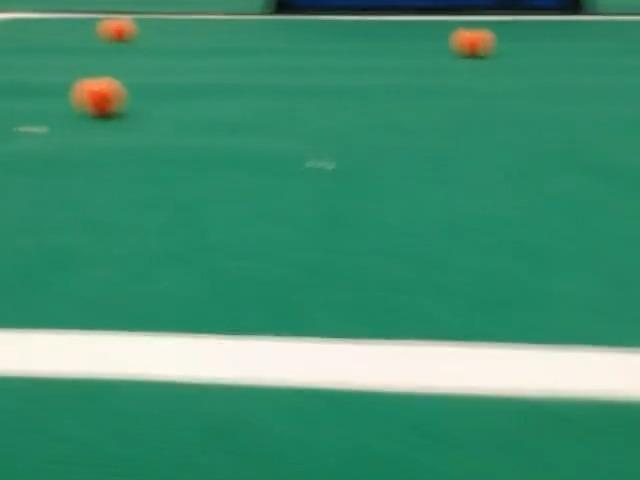Ball: (73, 77, 127, 117), (449, 28, 495, 57), (97, 18, 137, 42), (70, 79, 88, 111)
